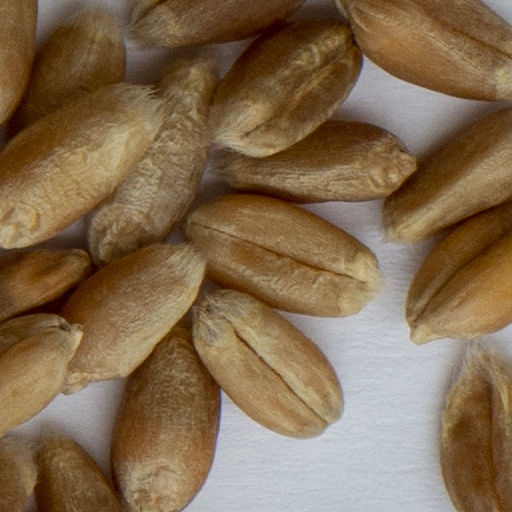Wheat-grain-poly: (83, 50, 216, 263), (0, 80, 168, 248), (215, 14, 362, 157), (0, 5, 128, 144), (125, 0, 310, 48), (0, 0, 40, 128)
